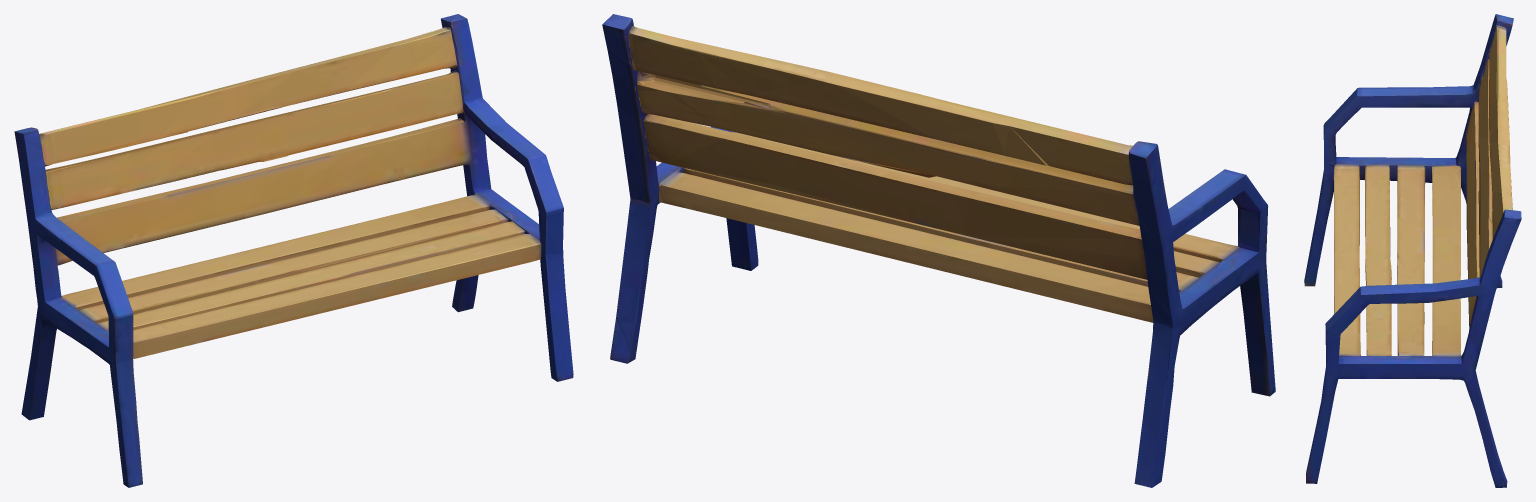
The model's file is prop_bench.glb.
The picture shows the model from 3 angles, left to right: view 1: azimuth 30°, elevation 25°; view 2: azimuth 150°, elevation 25°; view 3: azimuth 270°, elevation 25°; orthographic projection. The views are drawn at different scales.
Parts seen in each view (by area): view 1: groundshift; view 2: groundshift; view 3: groundshift.
Boxes of the visible parts, x1,y1,x2,y2 form: groundshift: [14, 14, 573, 487]; groundshift: [602, 14, 1275, 487]; groundshift: [1304, 14, 1521, 487].
Size of the model in its own units: 1.48 by 0.8996 by 0.6531.
1 material, 1 textured.
